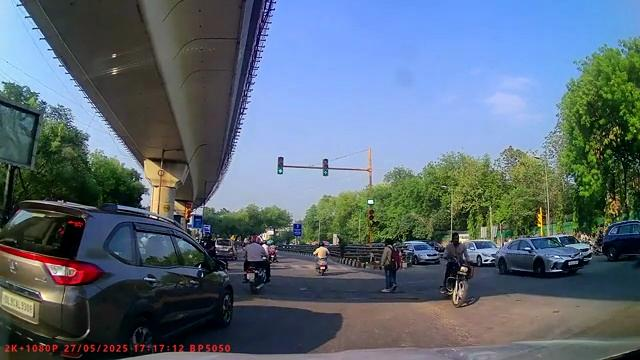motorcycle_with_helmet: (241, 234, 271, 294), (314, 240, 330, 276)
motorcycle_without_helmet: (438, 231, 475, 307)
